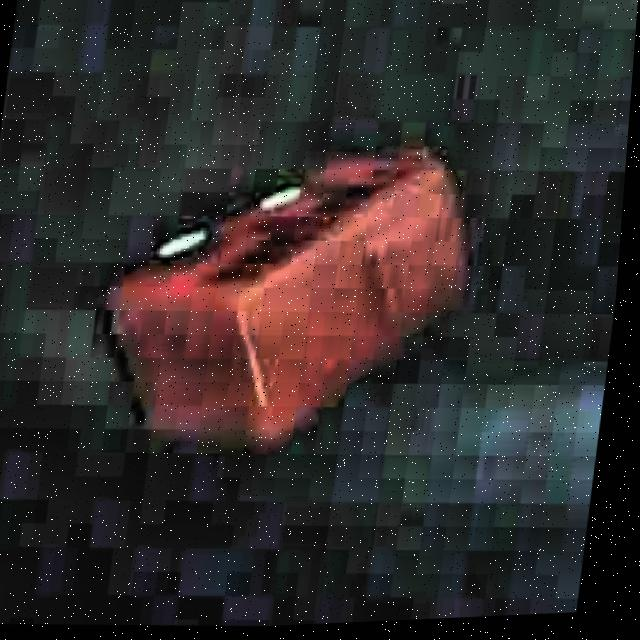bus: (71, 117, 498, 467)
